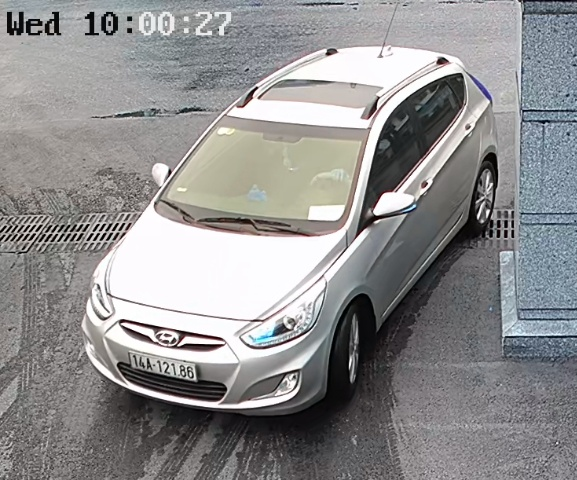vehicle plate: (127, 345, 199, 381)
